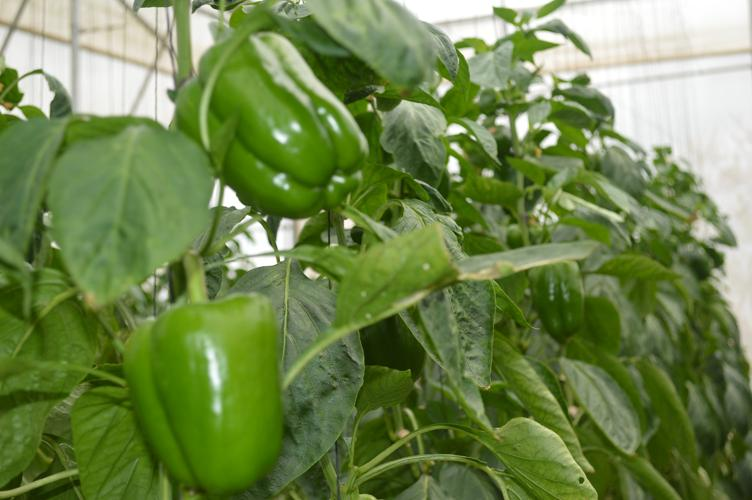BellPepper: (120, 292, 304, 496), (173, 37, 372, 218), (523, 258, 596, 351)
